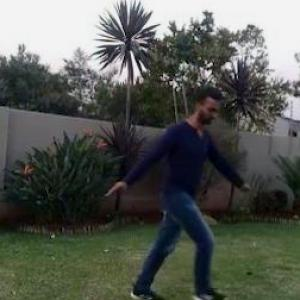land: (106, 78, 255, 298)
